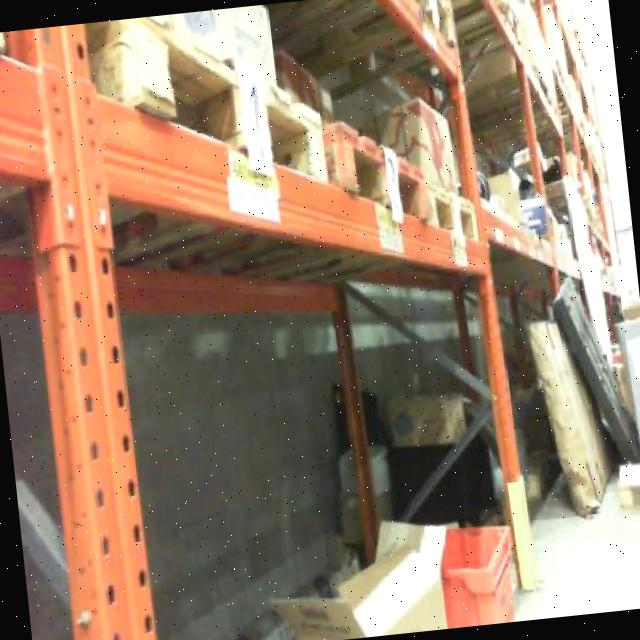pallet: (81, 13, 338, 190), (316, 113, 436, 228), (421, 176, 482, 248)
